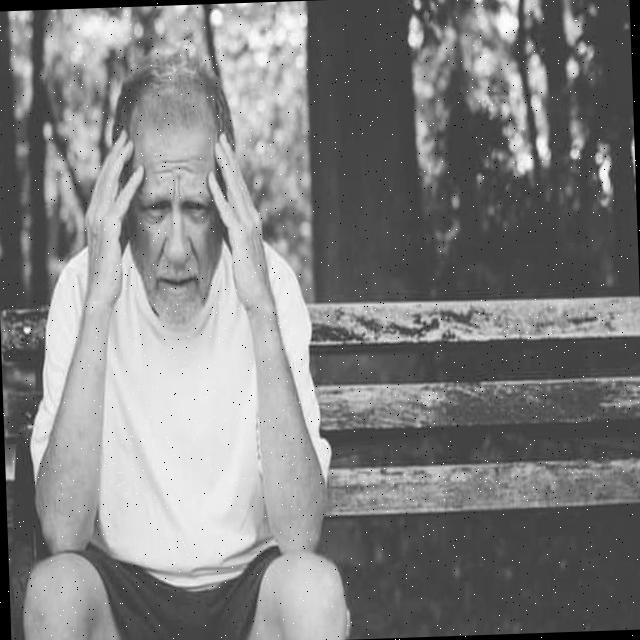Sadness: (137, 125, 215, 319)
